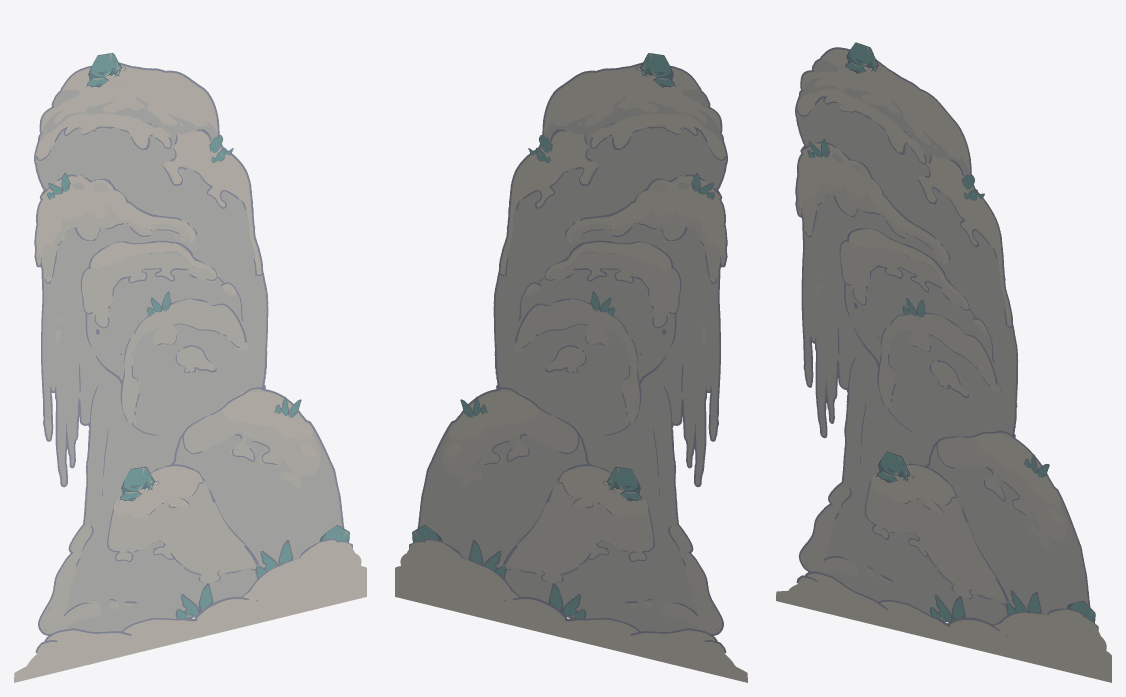
Rendered from Mesh_Adventure_SnowMountain_Rock_03.fbx.
3 views of the same model, side by side, from view 1: azimuth 30°, elevation 25°; view 2: azimuth 150°, elevation 25°; view 3: azimuth 330°, elevation 25° (orthographic). The views are drawn at different scales.
Parts seen in each view (by area): view 1: Mesh_Adventure_SnowMountain_Rock_03; view 2: Mesh_Adventure_SnowMountain_Rock_03; view 3: Mesh_Adventure_SnowMountain_Rock_03.
Boxes of the visible parts, bbox=[...] form: Mesh_Adventure_SnowMountain_Rock_03: bbox=[14, 53, 366, 682]; Mesh_Adventure_SnowMountain_Rock_03: bbox=[395, 53, 747, 682]; Mesh_Adventure_SnowMountain_Rock_03: bbox=[776, 42, 1111, 682].
Bounding box in the file's own units: 59.59 × 100 × 4.37e-06.
1 material, 1 textured.
